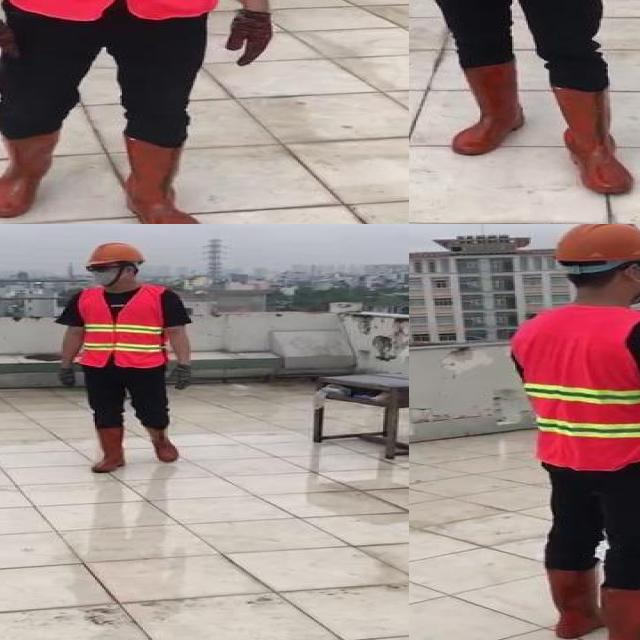boots: (546, 83, 633, 195), (121, 134, 207, 224), (454, 61, 524, 155), (0, 132, 59, 219), (536, 563, 602, 640), (597, 577, 640, 640), (91, 428, 129, 471), (145, 426, 187, 464)
face_mask: (88, 261, 127, 286)
glasses: (81, 262, 116, 274)
hand_glove: (229, 10, 273, 67), (0, 20, 20, 70), (170, 364, 191, 388), (56, 365, 75, 384)
head_helmet: (547, 224, 640, 265), (81, 239, 152, 270)
person: (0, 0, 291, 224), (506, 224, 640, 640), (409, 0, 640, 199), (55, 237, 197, 475)
vest: (507, 303, 640, 474), (79, 286, 171, 369)
